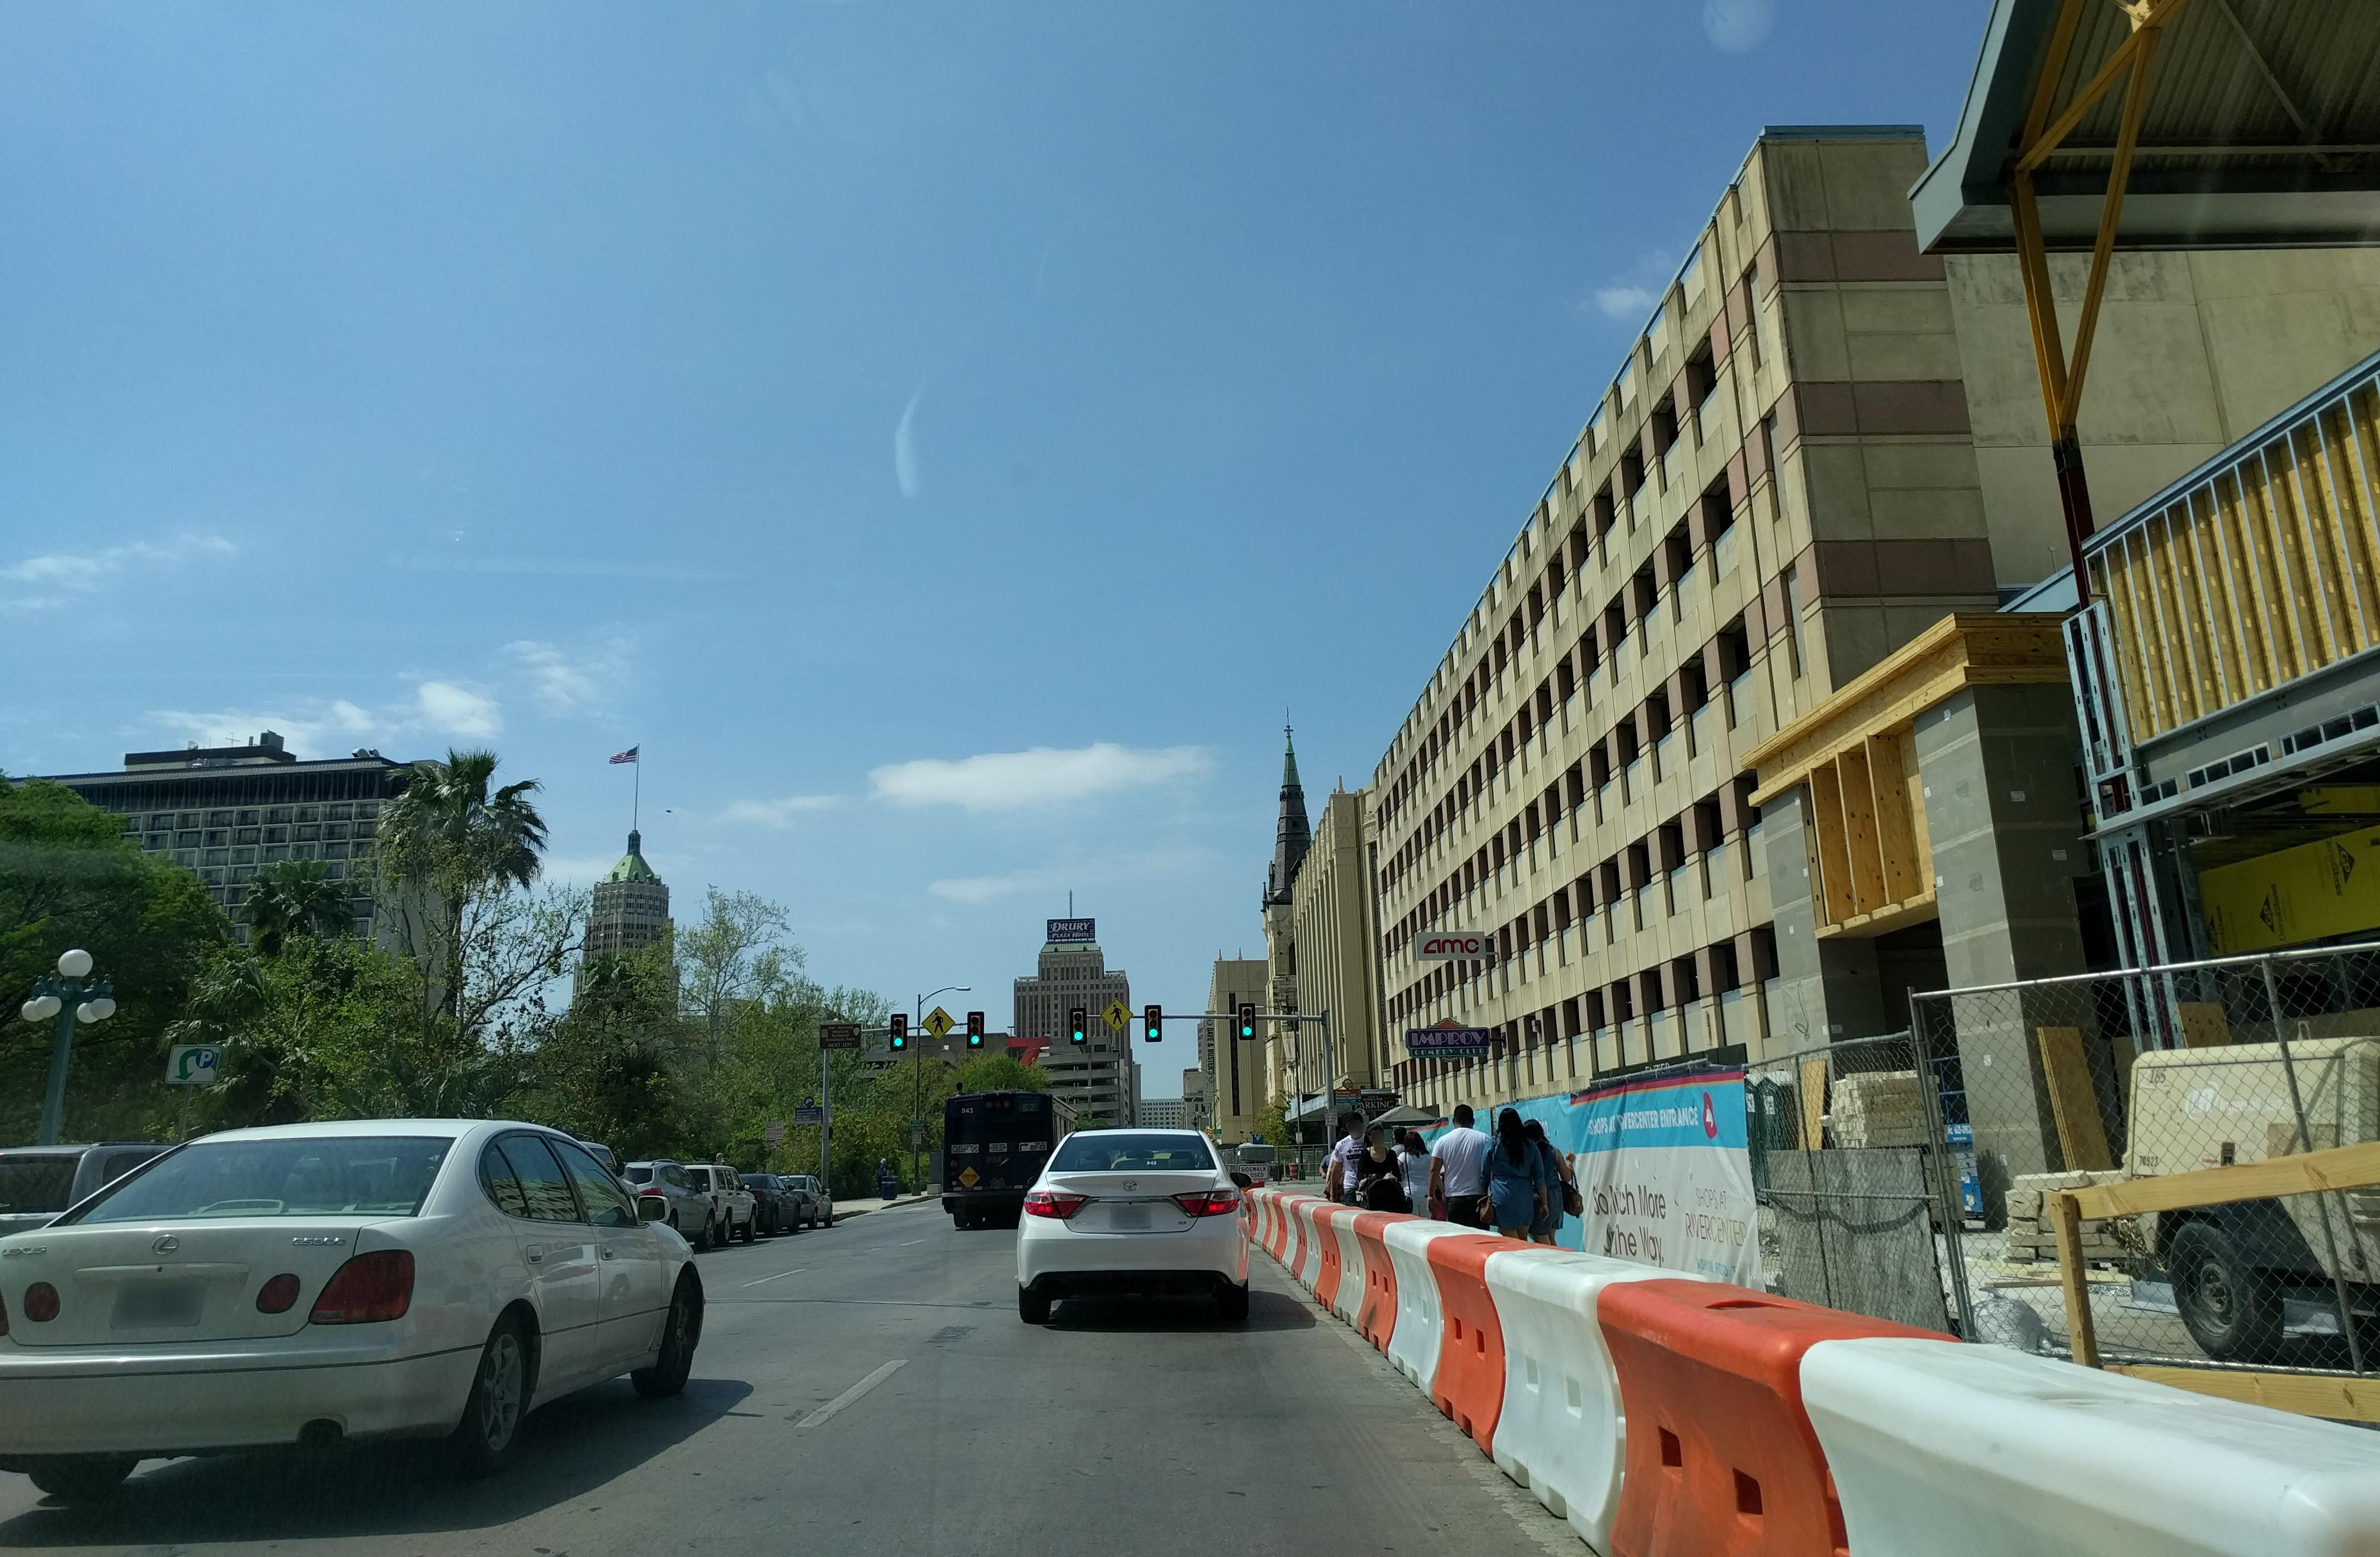vinyl banner: (1557, 1069, 1781, 1326)
